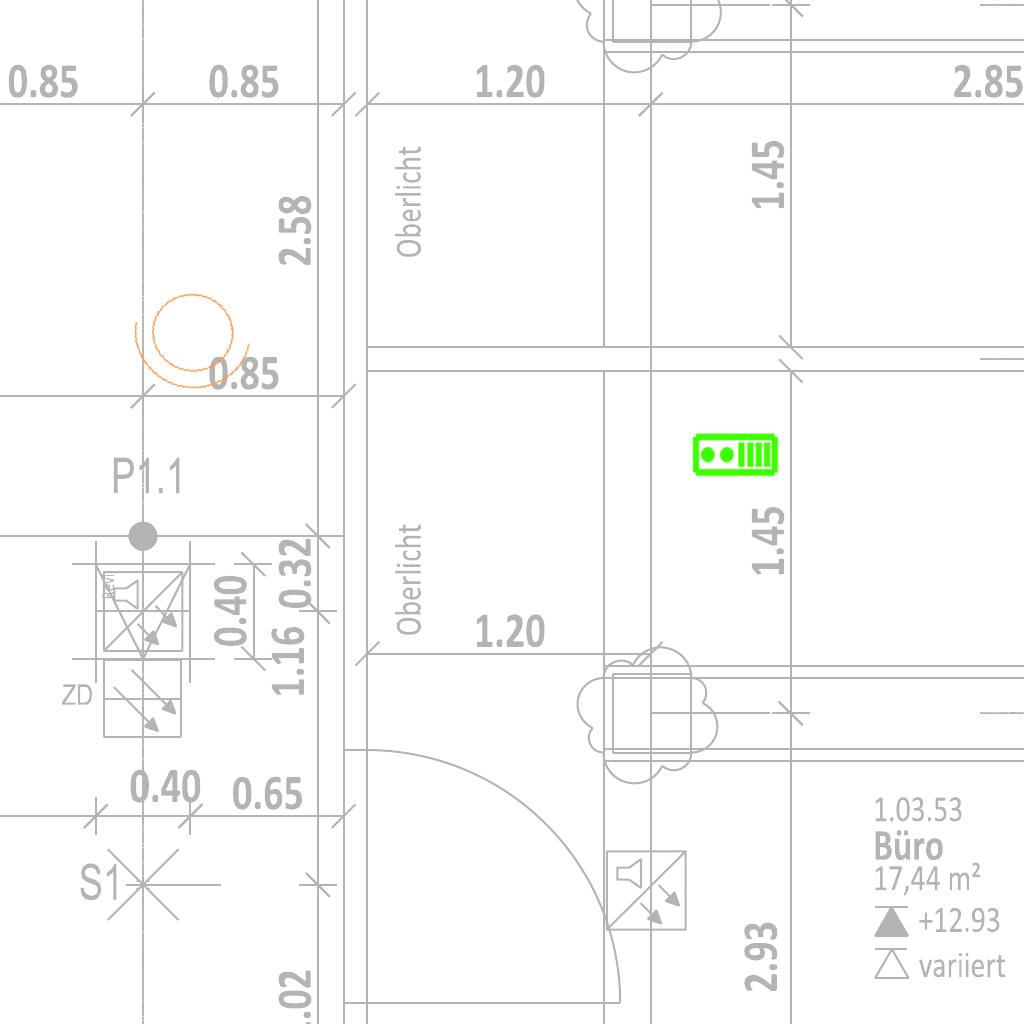Gegensprechanlage_mit_Video: (691, 432, 779, 479)
Scheinwerfer_fuer_Alarmbeleuchtung: (119, 270, 271, 406)
